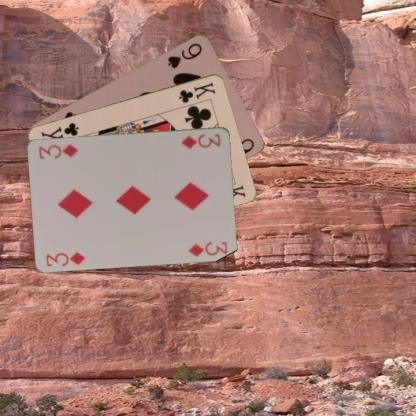3d: (43, 249, 87, 268), (179, 131, 222, 150)
9s: (165, 40, 203, 70)
Kc: (176, 79, 217, 104)
